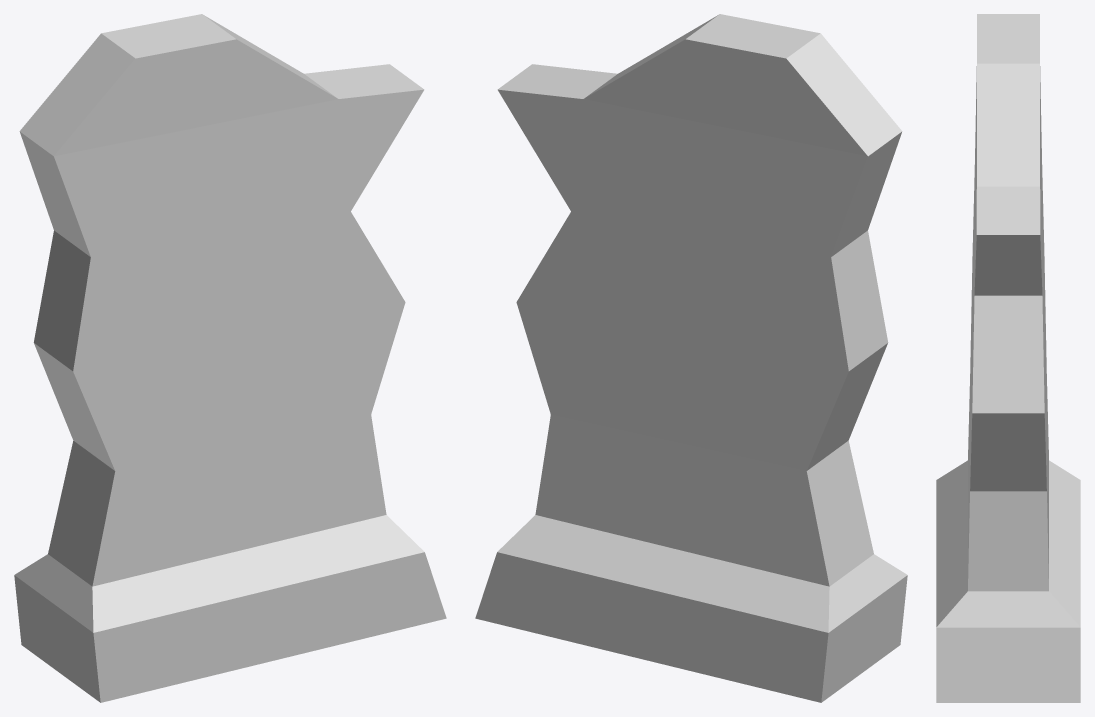
File: wall_piece_broken_inner.glb
3 views of the same model, side by side, from view 1: azimuth 30°, elevation 25°; view 2: azimuth 150°, elevation 25°; view 3: azimuth 270°, elevation 25° (orthographic). The views are drawn at different scales.
Parts seen in each view (by area): view 1: WallPieceBrokenInner; view 2: WallPieceBrokenInner; view 3: WallPieceBrokenInner.
Part boxes in pixels (left/top/right/bottom): WallPieceBrokenInner: left=14, top=14, right=446, bottom=702; WallPieceBrokenInner: left=475, top=14, right=907, bottom=702; WallPieceBrokenInner: left=936, top=14, right=1080, bottom=702.
Size of the model in its own units: 2.7 by 4.28 by 1.
Materials: 1 (1 with a texture image).
